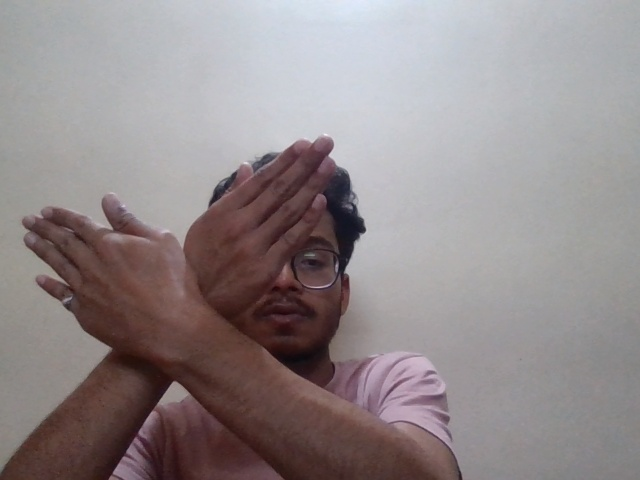feel: (18, 127, 328, 382)
